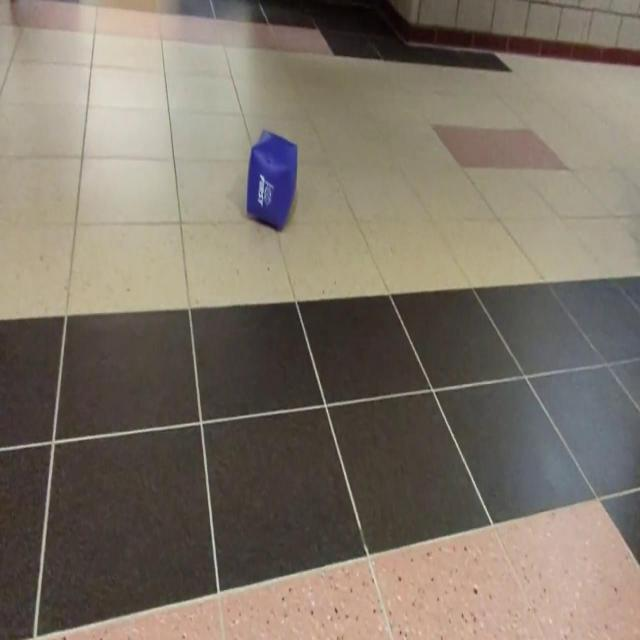frc_cube: (245, 132, 295, 230)
